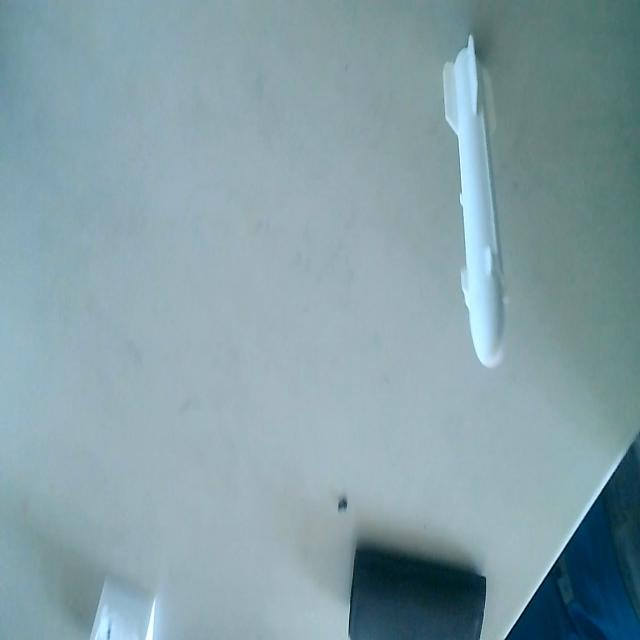Rocket: (440, 29, 514, 372)
